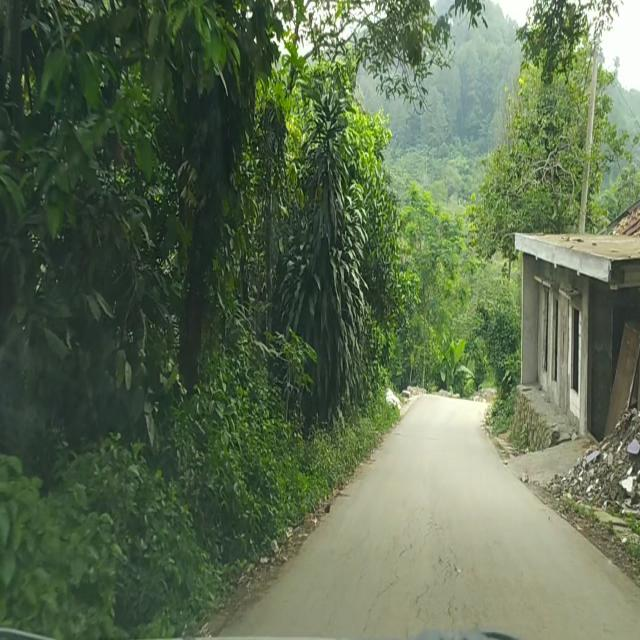Drain Hole: (364, 512, 474, 635)
